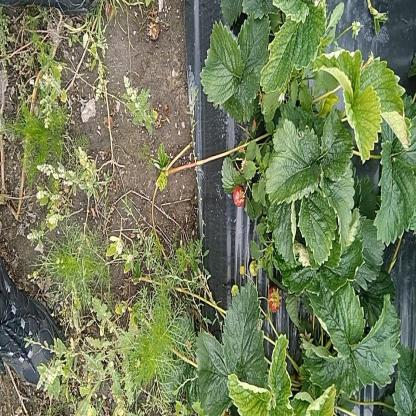ripe: (268, 286, 282, 314), (232, 184, 246, 208)
unripe: (249, 257, 258, 277), (230, 284, 239, 298), (238, 264, 246, 276)
